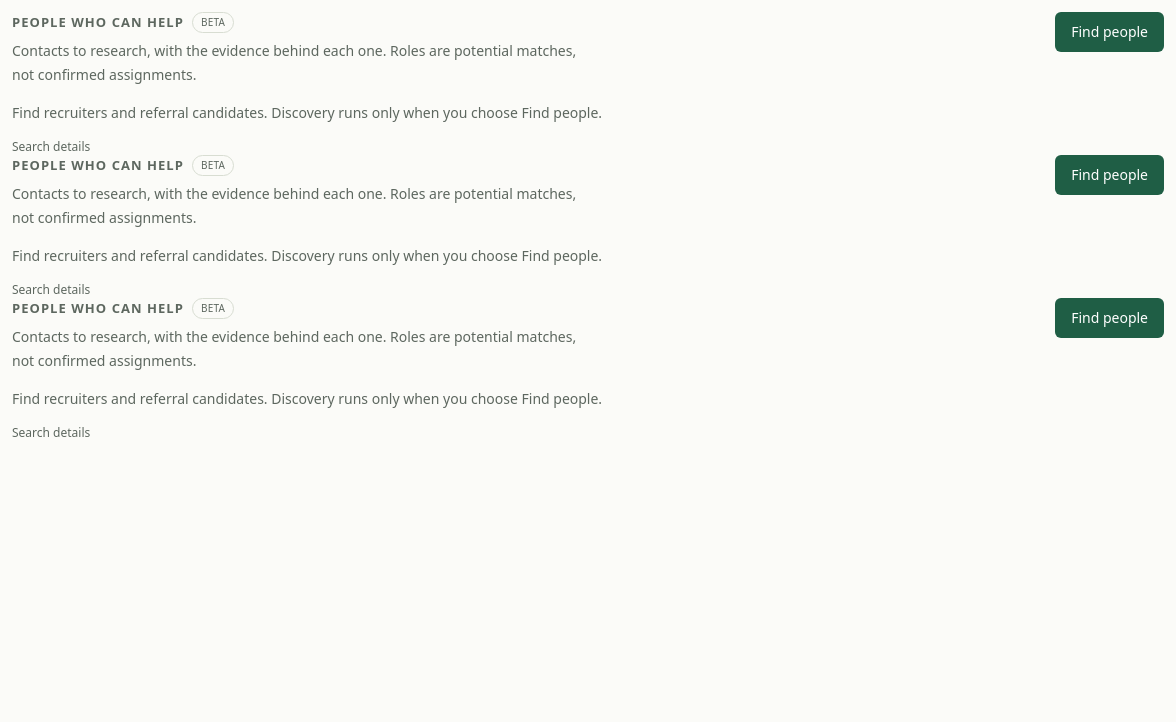
People Who Can Help — three-company provider scenario › renders L3Harris results even though Cisco failed and HII was empty
Click the 1st button "Find people" at (1110,32), box [1055, 12, 1164, 52]
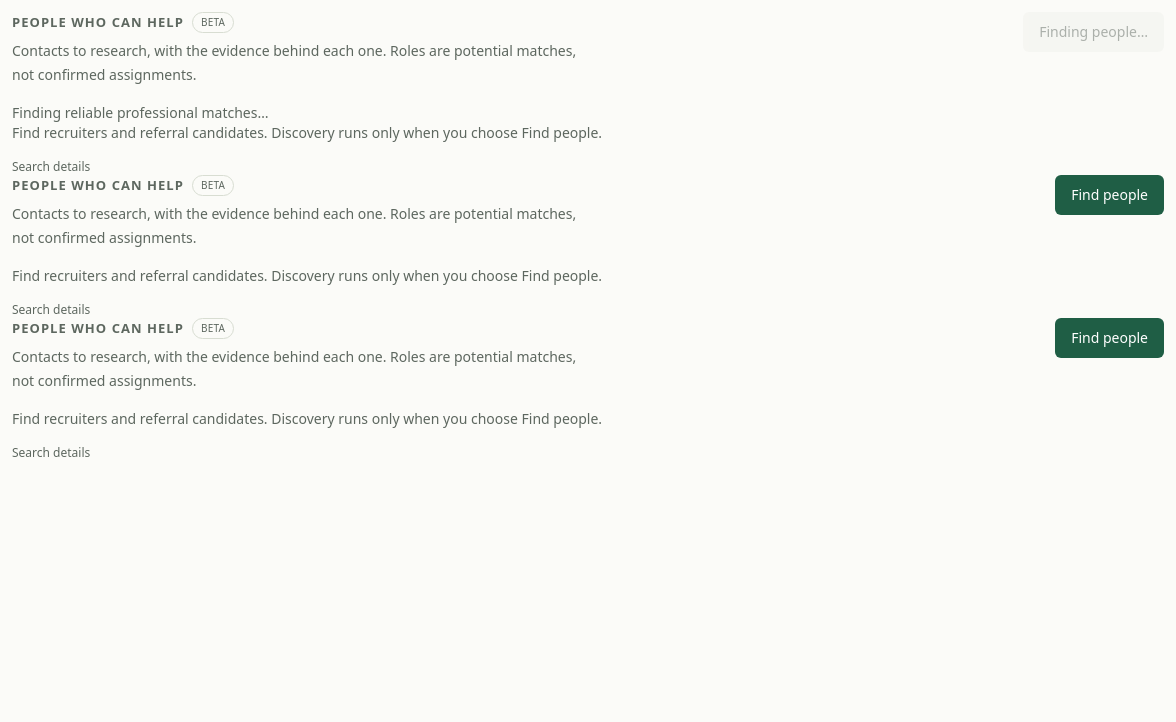
Click the 1st button "Find people" at (1110,195), box [1055, 175, 1164, 215]
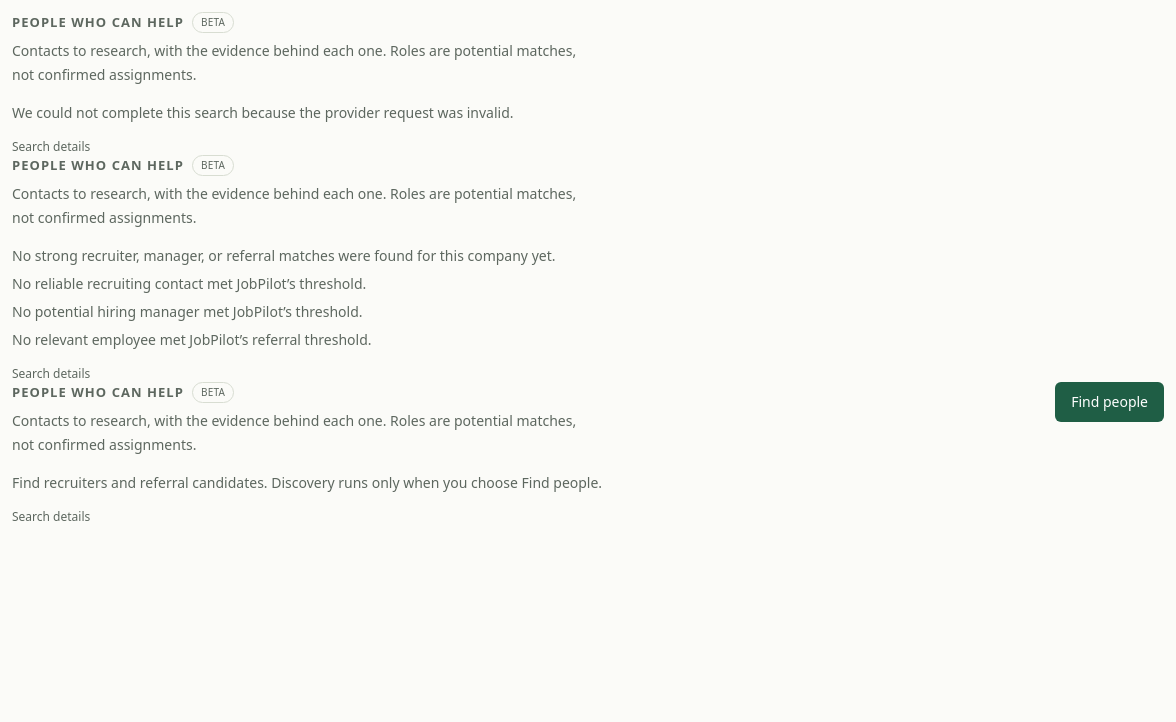
Click the button "Find people" at (1110,402), box [1055, 382, 1164, 422]
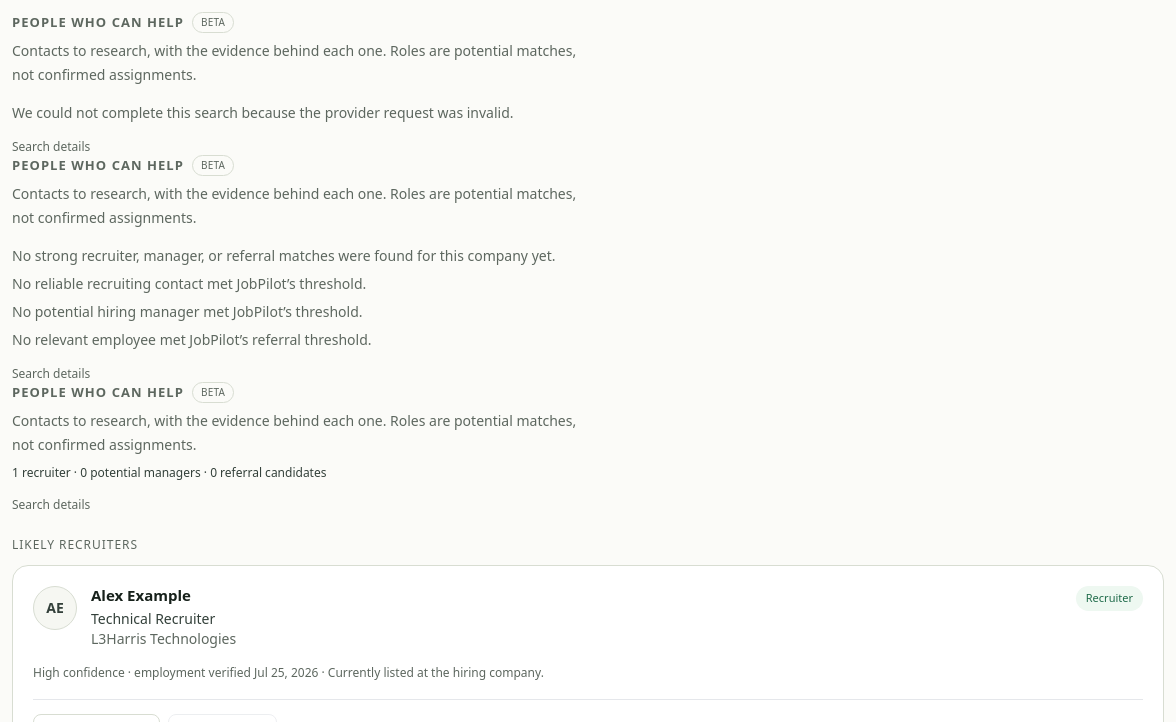
Now the text "We could not complete this search because the provider request was invalid." is shown, box [12, 103, 514, 122]
Now the text "No strong recruiter, manager, or referral matches were found for this company yet." is shown, box [12, 246, 556, 265]
Now the heading "Alex Example" is shown, box [91, 585, 191, 605]
